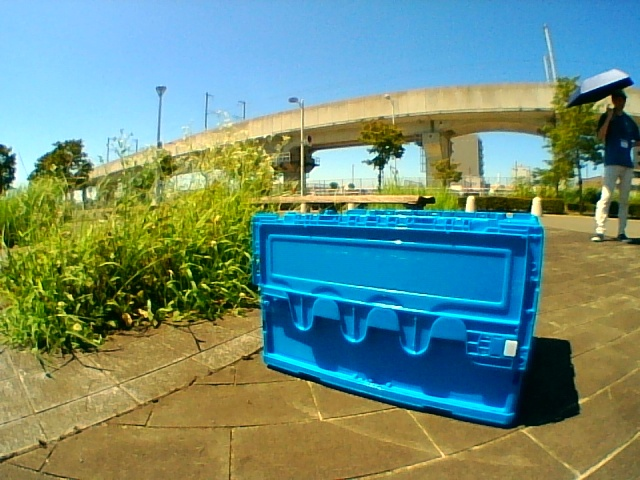blue_box: (265, 215, 523, 366)
